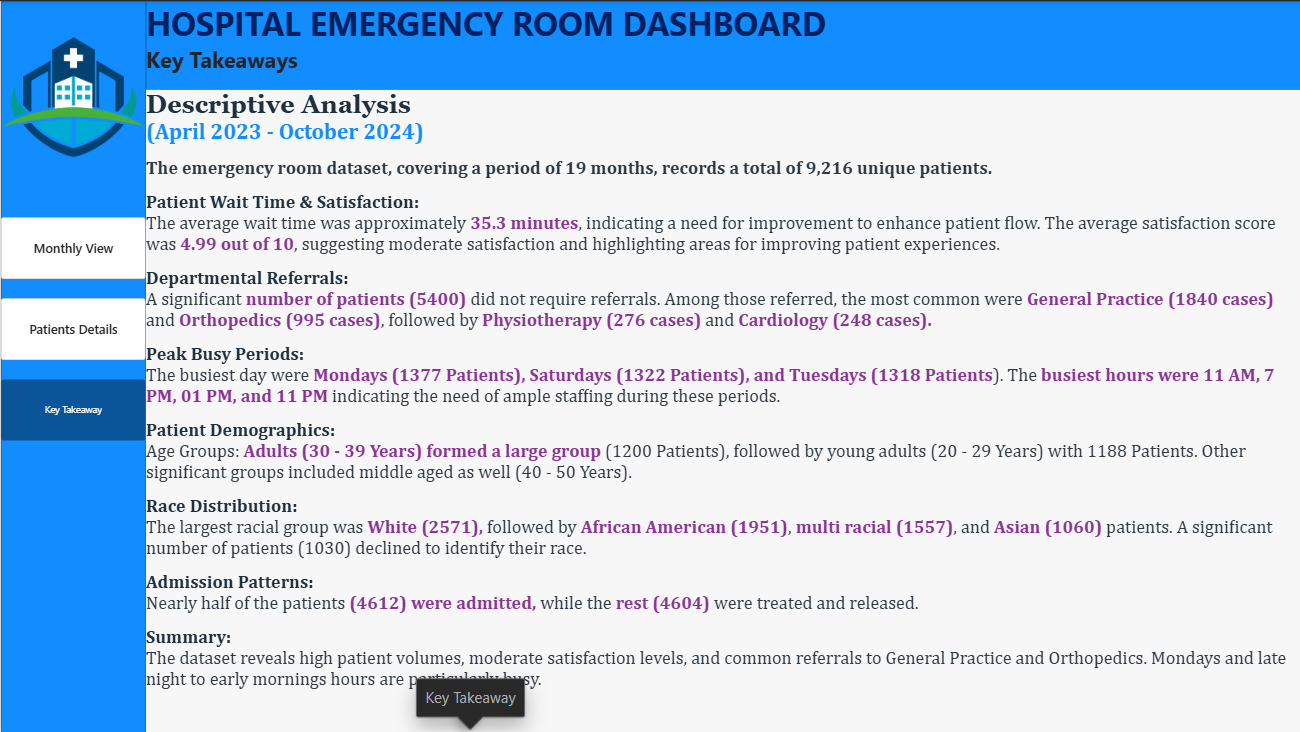

This screenshot's page, from the dashboard's own definition file:
{"tool":"powerbi","page":{"name":"Key Takeaway","canvas":[1920,1080],"ordinal":2},"visuals":[{"type":"shape","box":[0,0,213.5,1080.4],"z":0},{"type":"shape","box":[213.5,0,1706.1,130.7],"z":1},{"type":"textbox","box":[213.5,130.7,1706.1,949.7],"z":2},{"type":"textbox","box":[213.5,0,1492.6,130.7],"z":3},{"type":"image","box":[0,0,213.5,274.2],"z":4},{"type":"pageNavigator","box":[0,318.4,213.5,331.3],"z":5}]}

Visuals, with their boxes on the page's 1920x1080 design canvas (x1, y1, x2, y2). These are canvas units, not pixel positions in the 1300x732 screenshot, which may show the page scaled, cropped or inside an application window:
shape: <box>0,0,214,1080</box>
shape: <box>214,0,1920,131</box>
textbox: <box>214,131,1920,1080</box>
textbox: <box>214,0,1706,131</box>
image: <box>0,0,214,274</box>
pageNavigator: <box>0,318,214,650</box>
